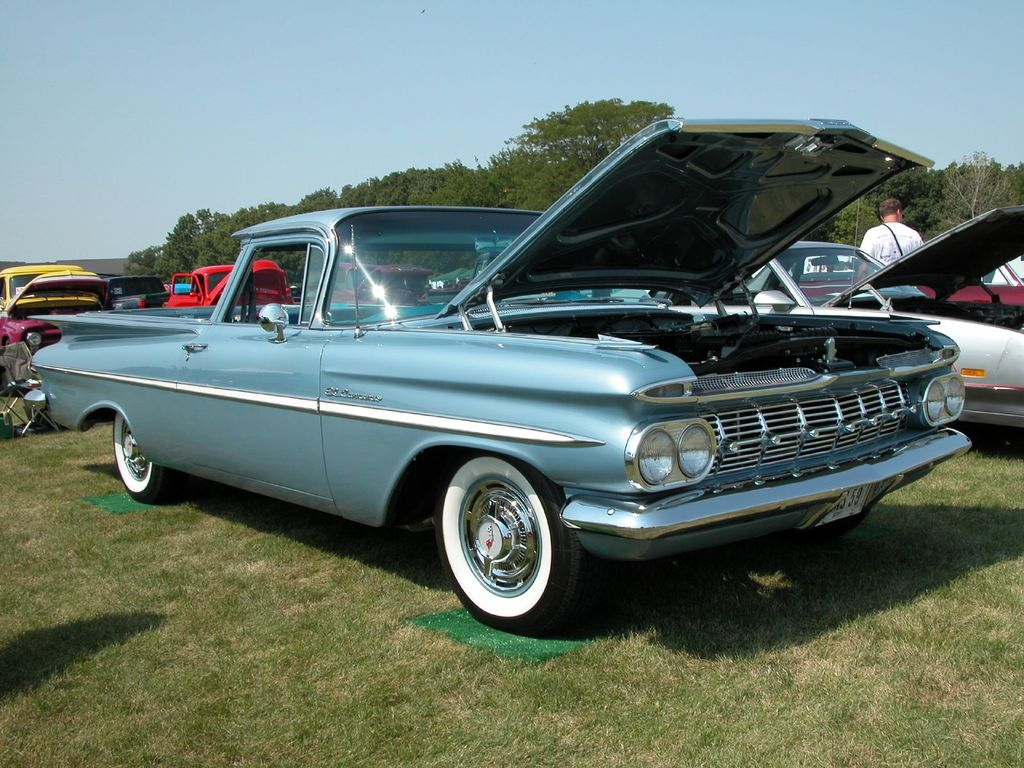Car: (0, 119, 1023, 635)
